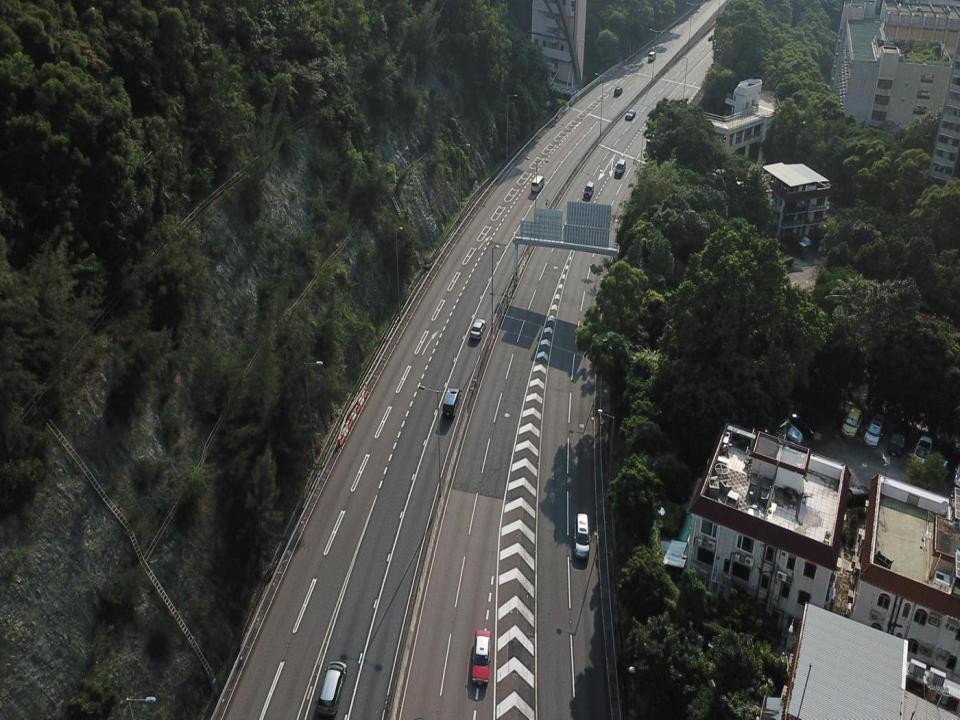bus: (648, 50, 656, 62)
car: (471, 629, 492, 686), (769, 414, 803, 445), (911, 434, 933, 476), (862, 412, 886, 449), (887, 422, 909, 458), (789, 411, 816, 439), (840, 406, 862, 439), (469, 318, 486, 340), (584, 181, 594, 199), (624, 108, 636, 120), (613, 86, 623, 97)
van: (316, 660, 348, 716), (573, 513, 592, 560), (441, 388, 463, 419), (530, 174, 545, 194), (614, 158, 626, 176)
